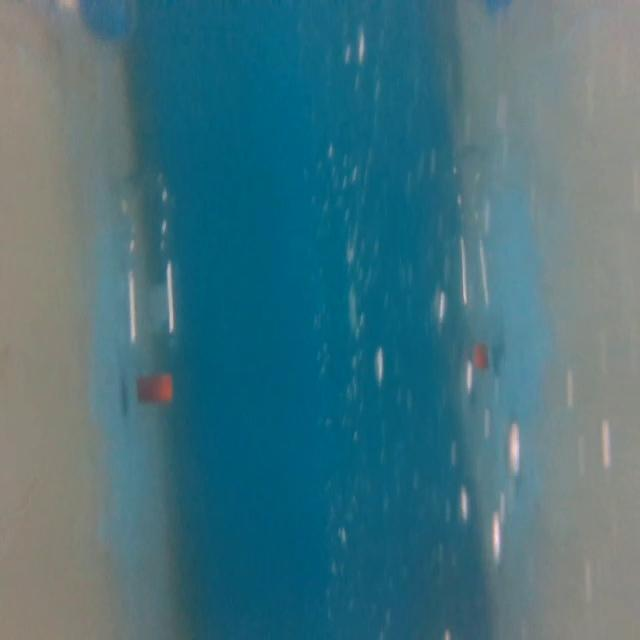plastic bottle: (103, 156, 193, 407)
